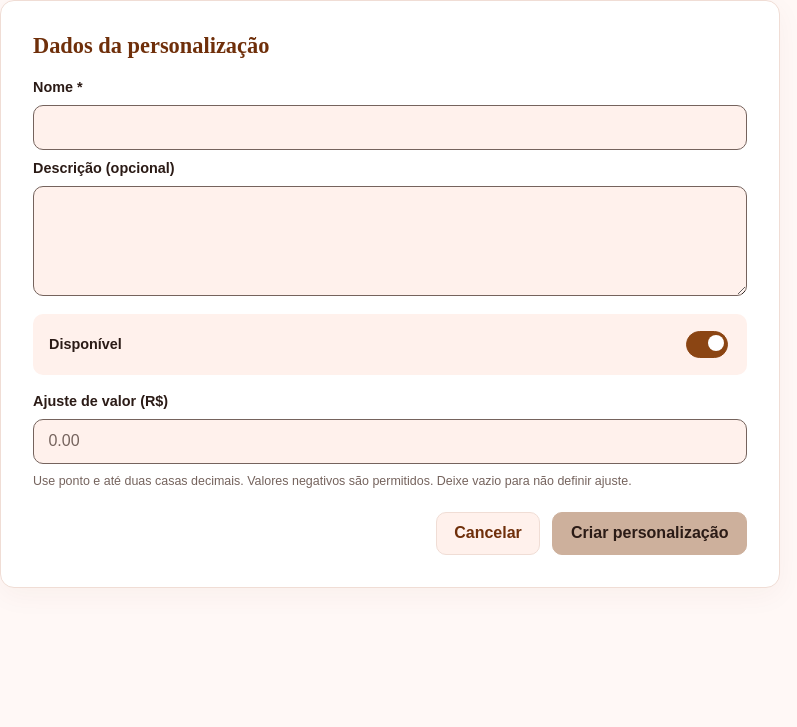
Test: submit inválido foca resumo anunciável e mantém erros específicos associados
The width and height of the screenshot is (797, 727).
Type "1e2" into the field labelled "Ajuste de valor (R$)".
click(390, 441); type("1e2")  # box [33,419,747,464]
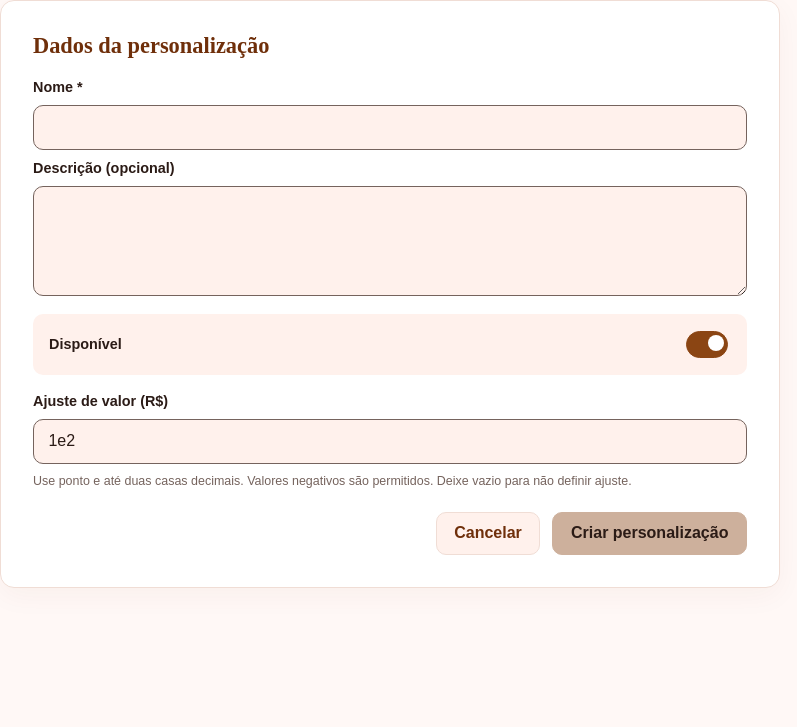
Expected: the button "Criar personalização" is disabled, [552,512,747,555]
Submit the form
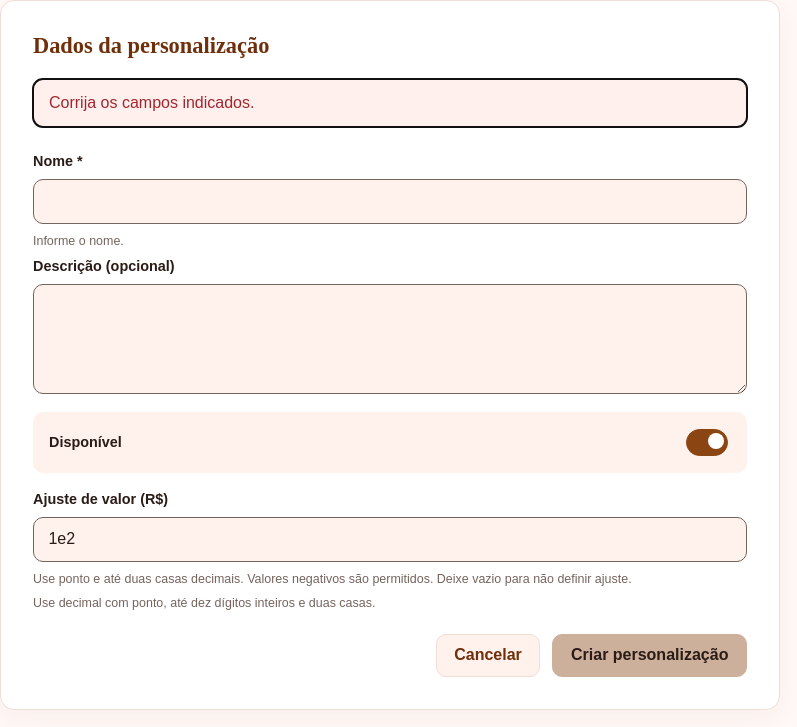
Expected: the text "Use decimal com ponto" is shown, [33,596,375,610]
